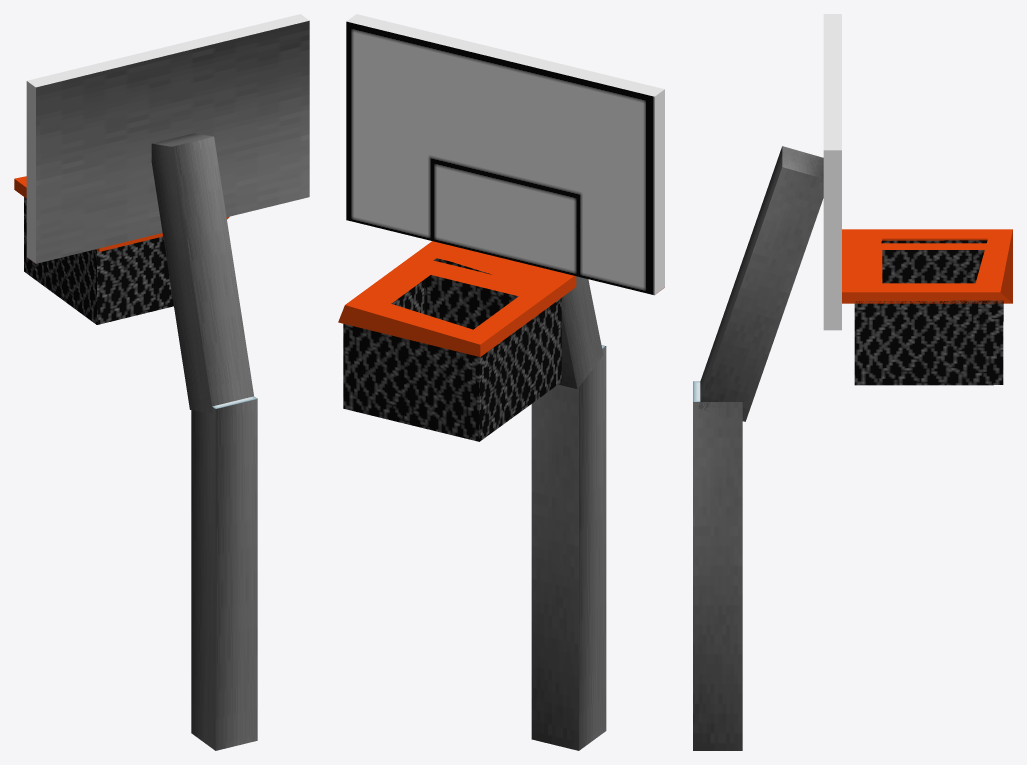
The model's file is basketballpolenet.fbx.
3 renders of one model, left to right at view 1: azimuth 30°, elevation 25°; view 2: azimuth 150°, elevation 25°; view 3: azimuth 270°, elevation 25°, orthographic. The views are drawn at different scales.
Parts seen in each view (by area): view 1: mesh_2, mesh, mesh_1, plane_1, plane_2, mesh_3; view 2: mesh_2, mesh, mesh_3, plane, plane_2, mesh_1, plane_1, plane_3; view 3: mesh, mesh_1, plane_3, mesh_3, mesh_2, plane_2.
Part boxes in pixels (x1=…): mesh_2: x1=26, y1=14, x2=309, y2=263; mesh: x1=191, y1=396, x2=257, y2=750; mesh_1: x1=151, y1=133, x2=253, y2=413; plane_1: x1=97, y1=236, x2=173, y2=324; plane_2: x1=24, y1=197, x2=96, y2=324; mesh_3: x1=14, y1=176, x2=229, y2=251; mesh_2: x1=346, y1=14, x2=664, y2=295; mesh: x1=531, y1=345, x2=606, y2=750; mesh_3: x1=338, y1=241, x2=576, y2=356; plane: x1=343, y1=324, x2=479, y2=441; plane_2: x1=479, y1=298, x2=561, y2=441; mesh_1: x1=558, y1=276, x2=603, y2=388; plane_1: x1=425, y1=258, x2=518, y2=329; plane_3: x1=391, y1=279, x2=425, y2=314; mesh: x1=693, y1=381, x2=742, y2=750; mesh_1: x1=699, y1=146, x2=823, y2=421; plane_3: x1=854, y1=300, x2=1003, y2=385; mesh_3: x1=842, y1=229, x2=1012, y2=303; mesh_2: x1=823, y1=14, x2=841, y2=330; plane_2: x1=881, y1=240, x2=987, y2=283.
Bounding box in the file's own units: 81.25 × 183 × 80.47.
Materials: 2 (2 with a texture image).
